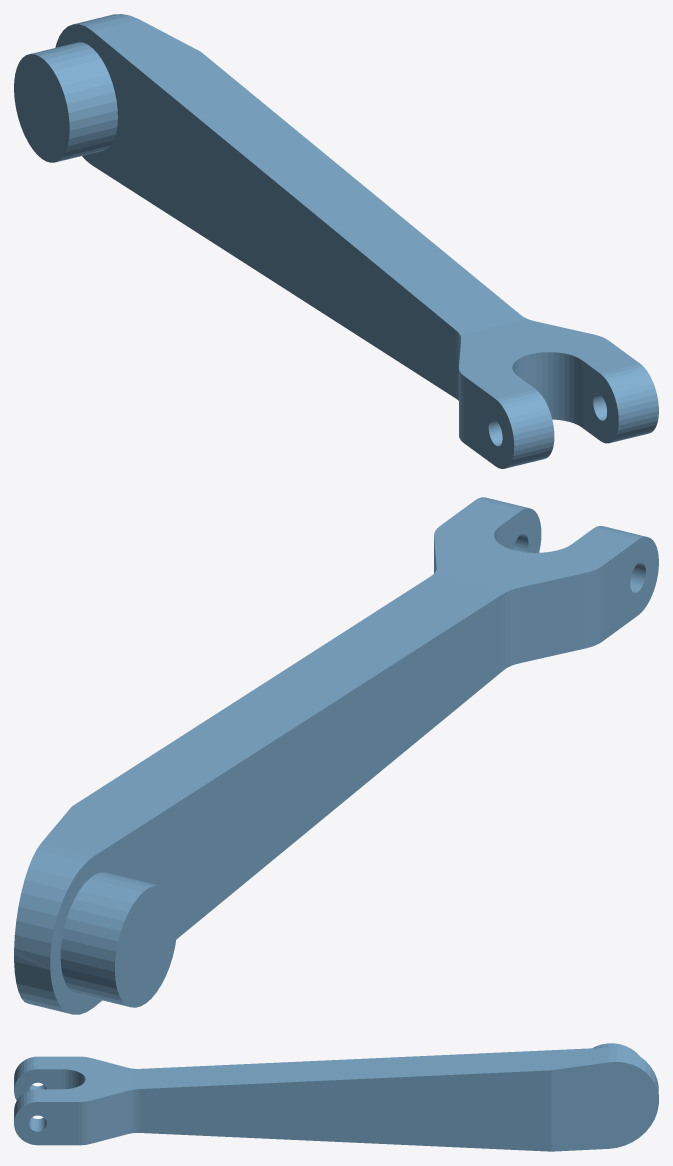
The model's file is shank_rev01.dae.
3 renders of one model, top to bottom at view 1: azimuth 30°, elevation 25°; view 2: azimuth 150°, elevation 25°; view 3: azimuth 270°, elevation 25°, orthographic. The views are drawn at different scales.
Visible parts, largest first — view 1: Leg2; view 2: Leg2; view 3: Leg2.
Part boxes in pixels (x1,y1,x2,y2): Leg2: (14, 14, 658, 468); Leg2: (14, 497, 658, 1014); Leg2: (14, 1043, 658, 1151).
Size of the model in its own units: 47.5 by 270 by 39.95.
